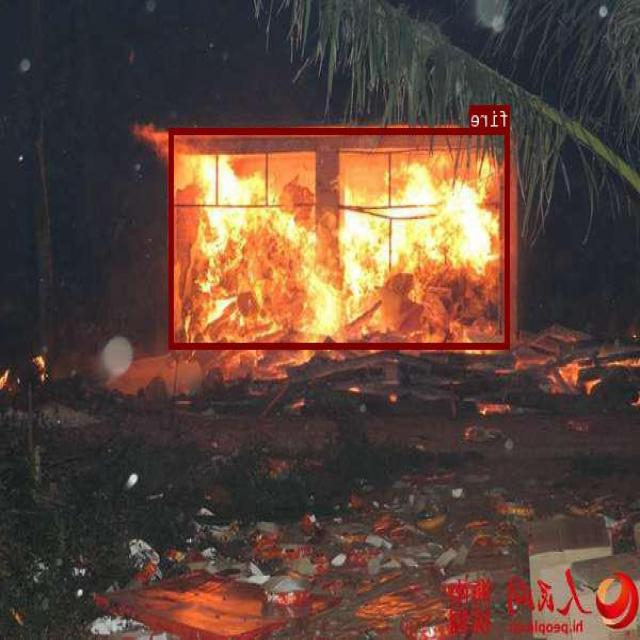fire: (170, 128, 510, 348)
